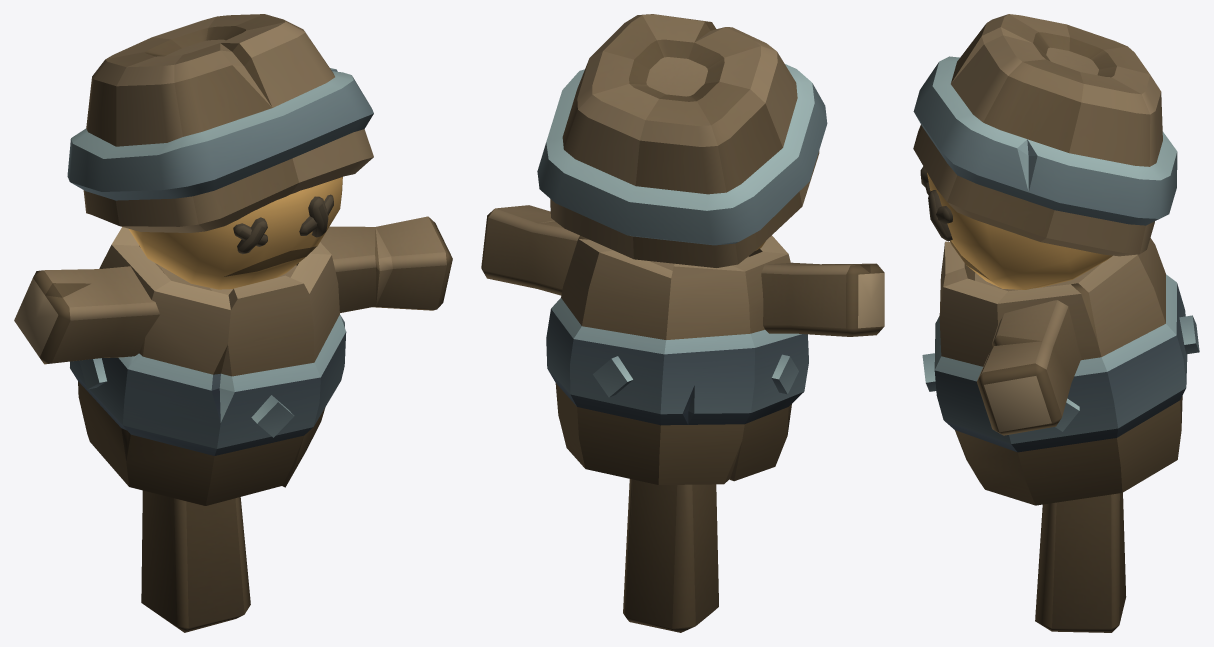
File: practice_dummy.fbx
The picture shows the model from 3 angles, left to right: view 1: azimuth 30°, elevation 25°; view 2: azimuth 150°, elevation 25°; view 3: azimuth 270°, elevation 25°; orthographic projection. The views are drawn at different scales.
Parts seen in each view (by area): view 1: practice_dummy; view 2: practice_dummy; view 3: practice_dummy.
Part boxes in pixels (x1,y1,x2,y2): practice_dummy: (14, 14, 452, 632); practice_dummy: (481, 14, 884, 632); practice_dummy: (913, 14, 1199, 632).
Size of the model in its own units: 146 by 205 by 90.53.
